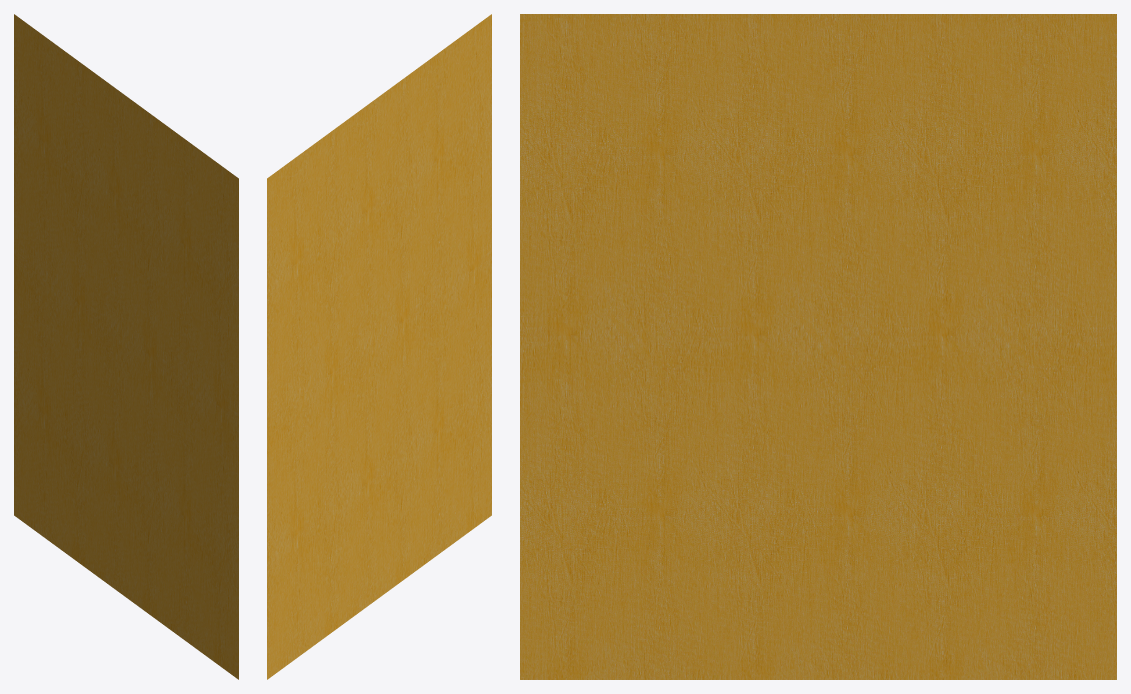
The model's file is animated_guestroom_curtain.gltf.
3 renders of one model, left to right at view 1: azimuth 30°, elevation 25°; view 2: azimuth 150°, elevation 25°; view 3: azimuth 270°, elevation 25°, orthographic. The views are drawn at different scales.
Visible parts, largest first — view 1: Сurtains.003; view 2: Сurtains.003; view 3: Сurtains.003.
Boxes of the visible parts, box(x1,y1,x2,y2) form: Сurtains.003: box(14, 14, 238, 679); Сurtains.003: box(267, 14, 491, 679); Сurtains.003: box(520, 14, 1116, 679).
Bounding box in the file's own units: 0 × 3 × 2.44.
